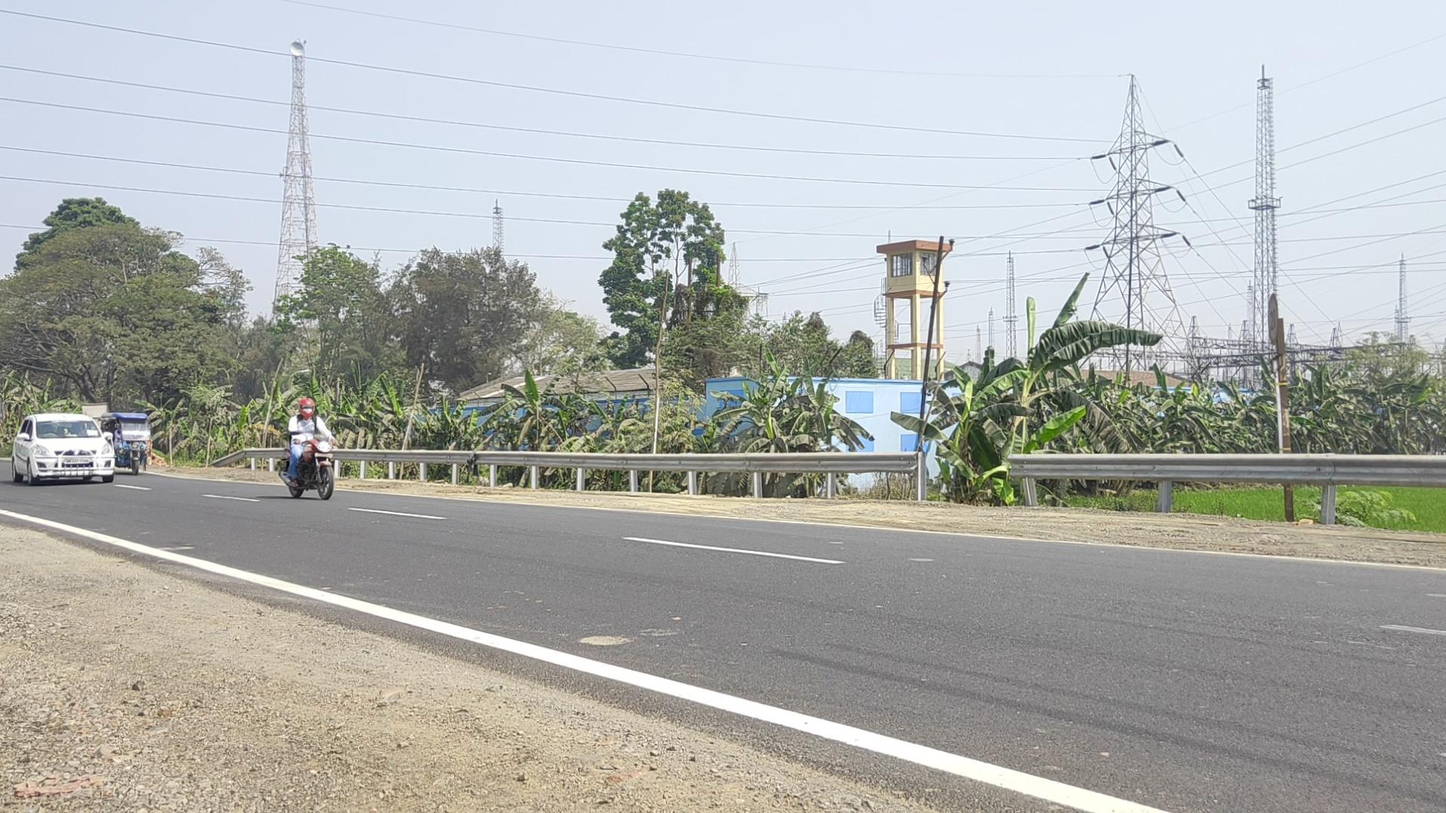Auto: (99, 412, 151, 476)
bike: (279, 397, 339, 501)
car: (11, 413, 115, 486)
